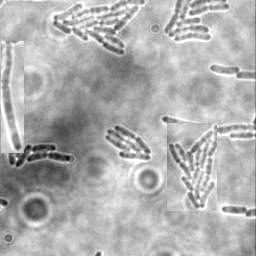Dividing: (1, 41, 24, 153), (161, 114, 255, 133), (221, 204, 248, 215)
Microcolony: (51, 1, 147, 56), (167, 123, 217, 211), (162, 1, 231, 44), (8, 130, 72, 167), (106, 124, 153, 160), (208, 63, 240, 74)
